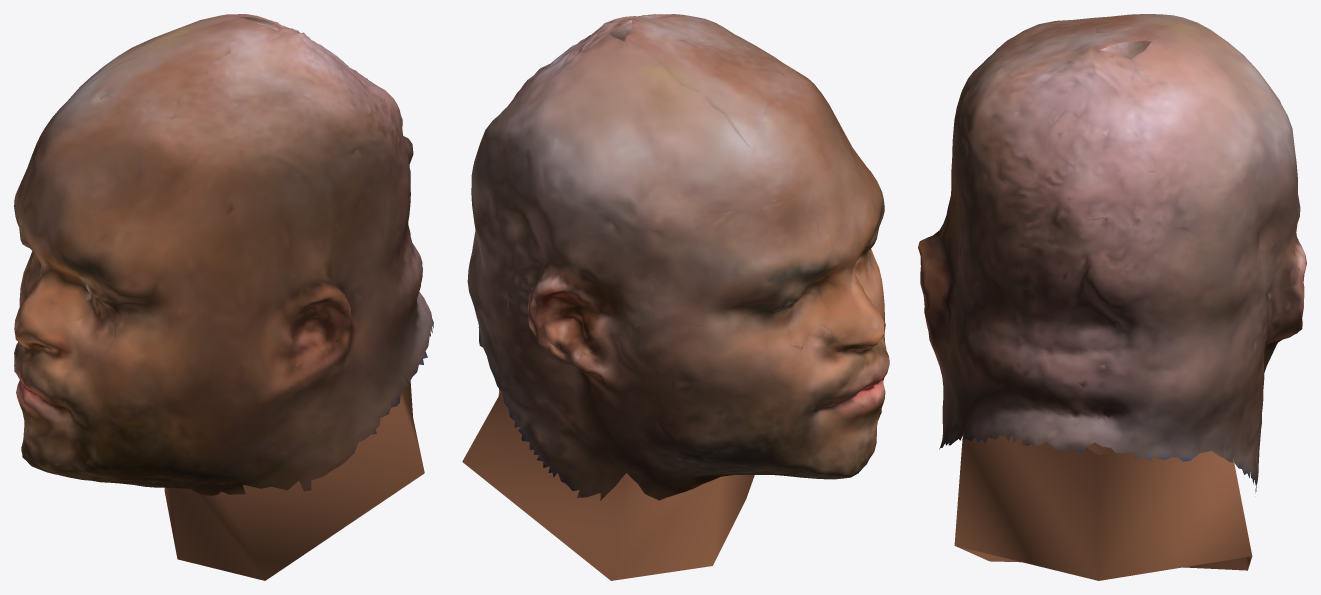
The model's file is Jesse.glb.
3 views of the same model, side by side, from view 1: azimuth 30°, elevation 25°; view 2: azimuth 150°, elevation 25°; view 3: azimuth 270°, elevation 25° (orthographic). The views are drawn at different scales.
Parts seen in each view (by area): view 1: Head; view 2: Head; view 3: Head.
Part boxes in pixels (left/top/right/bottom): Head: left=14, top=14, right=433, bottom=580; Head: left=462, top=14, right=889, bottom=580; Head: left=918, top=14, right=1306, bottom=580.
Size of the model in its own units: 0.2137 by 0.2691 by 0.1677.
2 materials, 1 textured.
